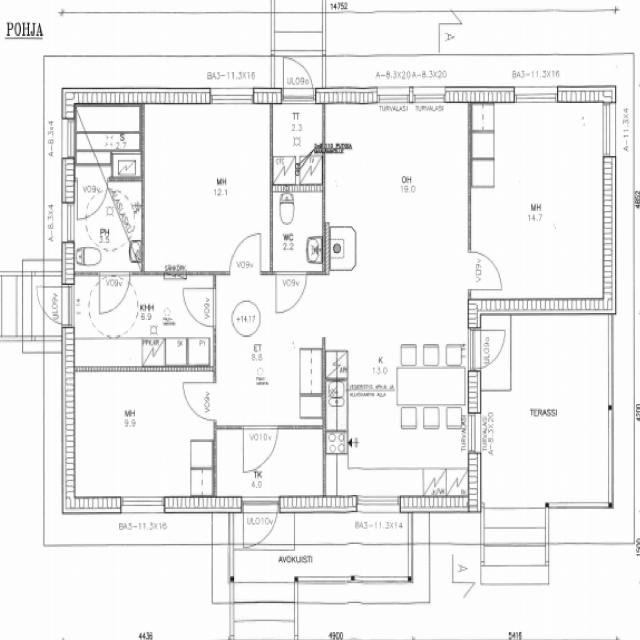door: (243, 496, 280, 560), (468, 330, 513, 370), (32, 286, 75, 324), (243, 425, 277, 472), (285, 51, 315, 104), (229, 232, 260, 276), (99, 272, 129, 314), (77, 177, 107, 219), (182, 382, 215, 420), (182, 288, 215, 326), (276, 272, 306, 313), (468, 253, 500, 289), (322, 106, 351, 138)
